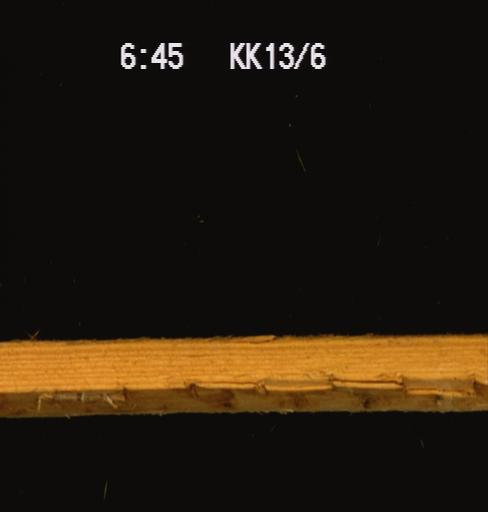wave: (0, 333, 486, 403)
